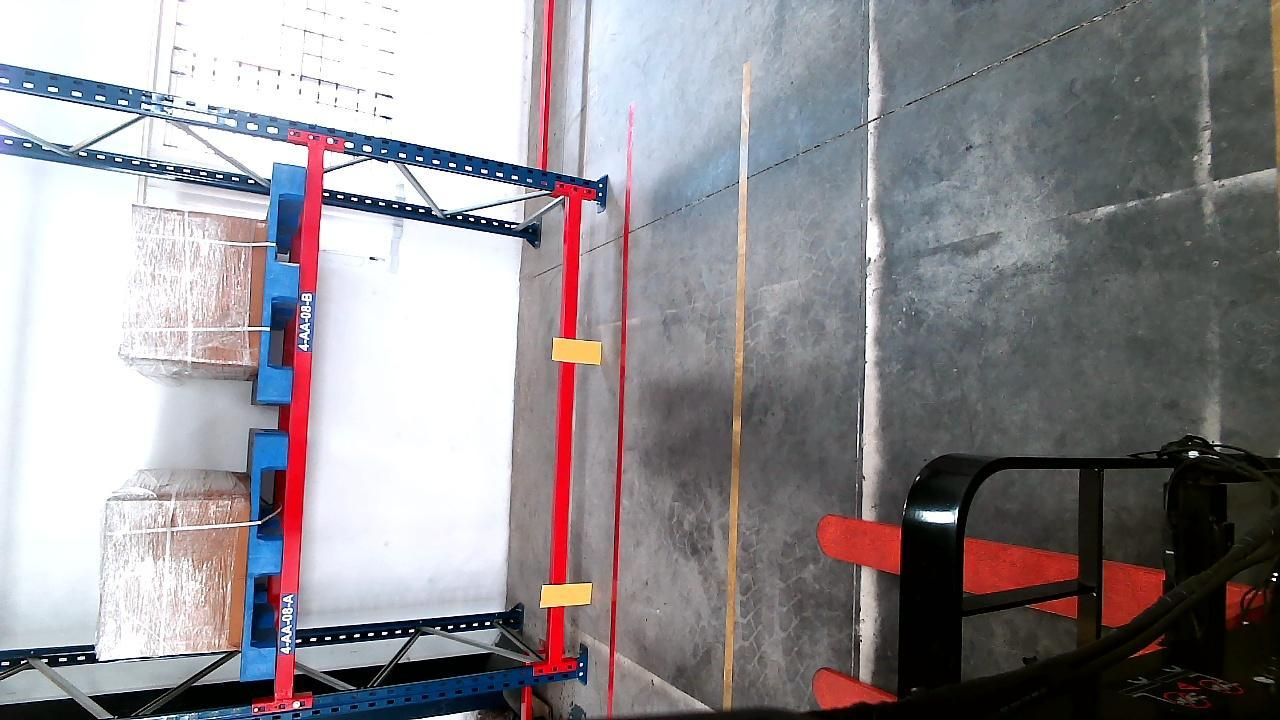red_line: (604, 103, 637, 714)
yellow_line: (715, 128, 753, 706)
